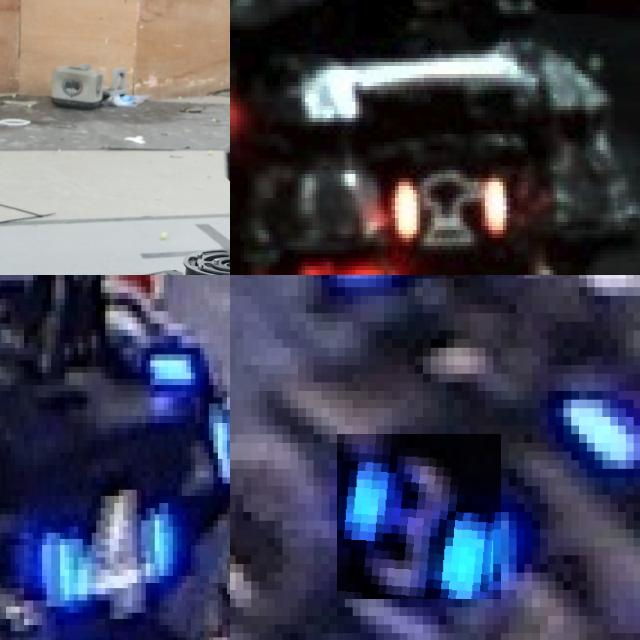B3: (337, 434, 501, 599), (571, 322, 640, 469)
B4: (28, 471, 182, 619)
Rs: (392, 182, 510, 242)
